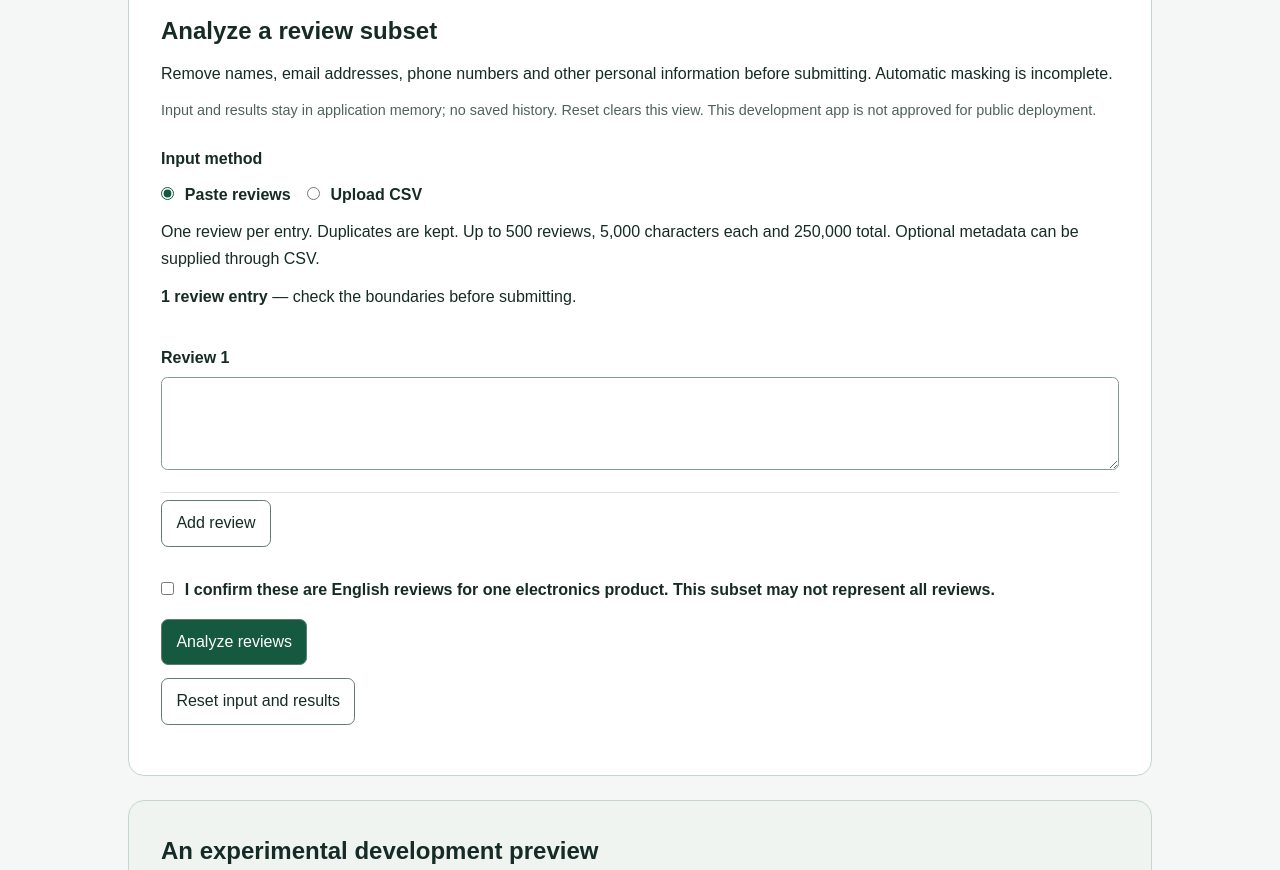
network failure retains input; retry succeeds with an experimental score
(page scrolled)
Type "This synthetic display is bright and clear." into the text box labelled "Review 1" at [640, 423], box [161, 377, 1119, 470]
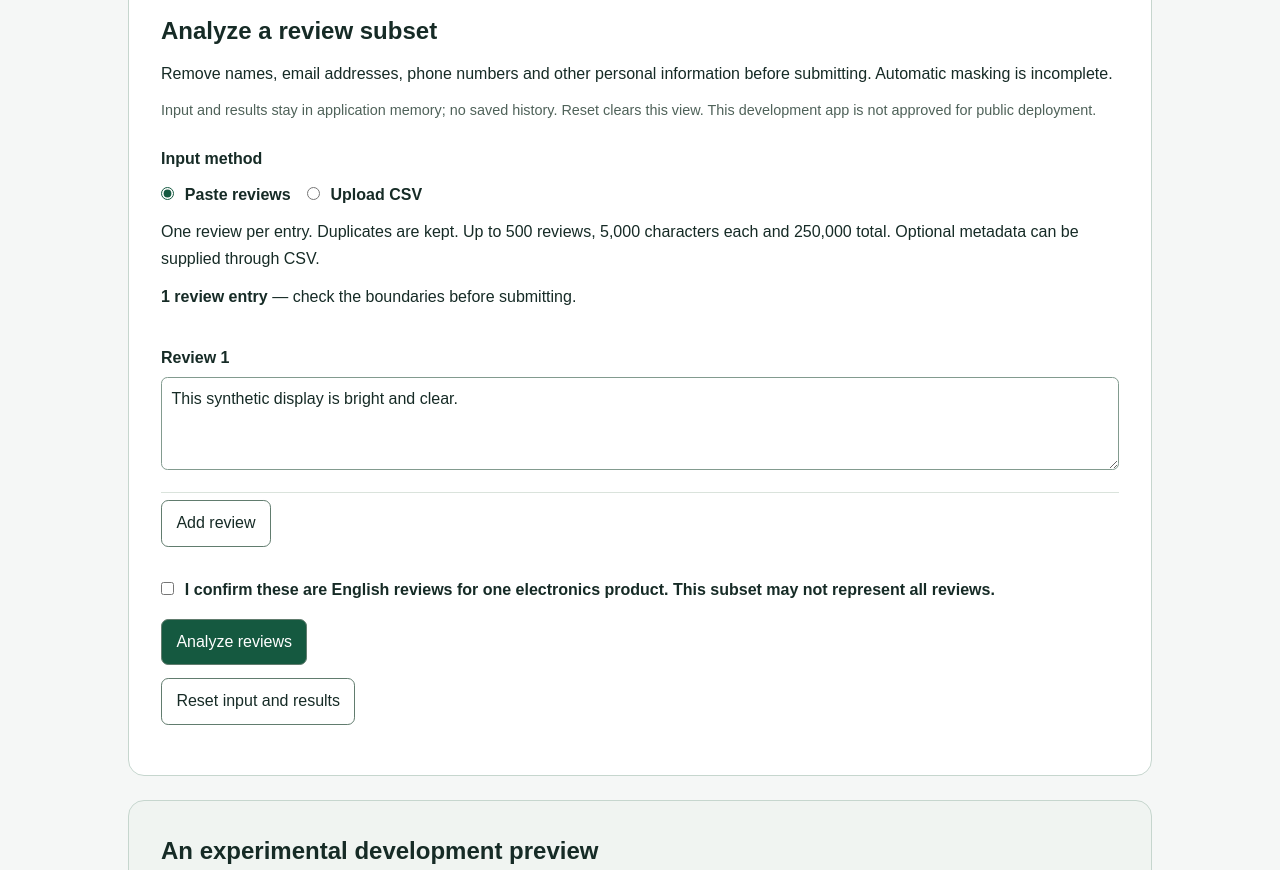
Click the checkbox at [168, 588], box [161, 582, 174, 595]
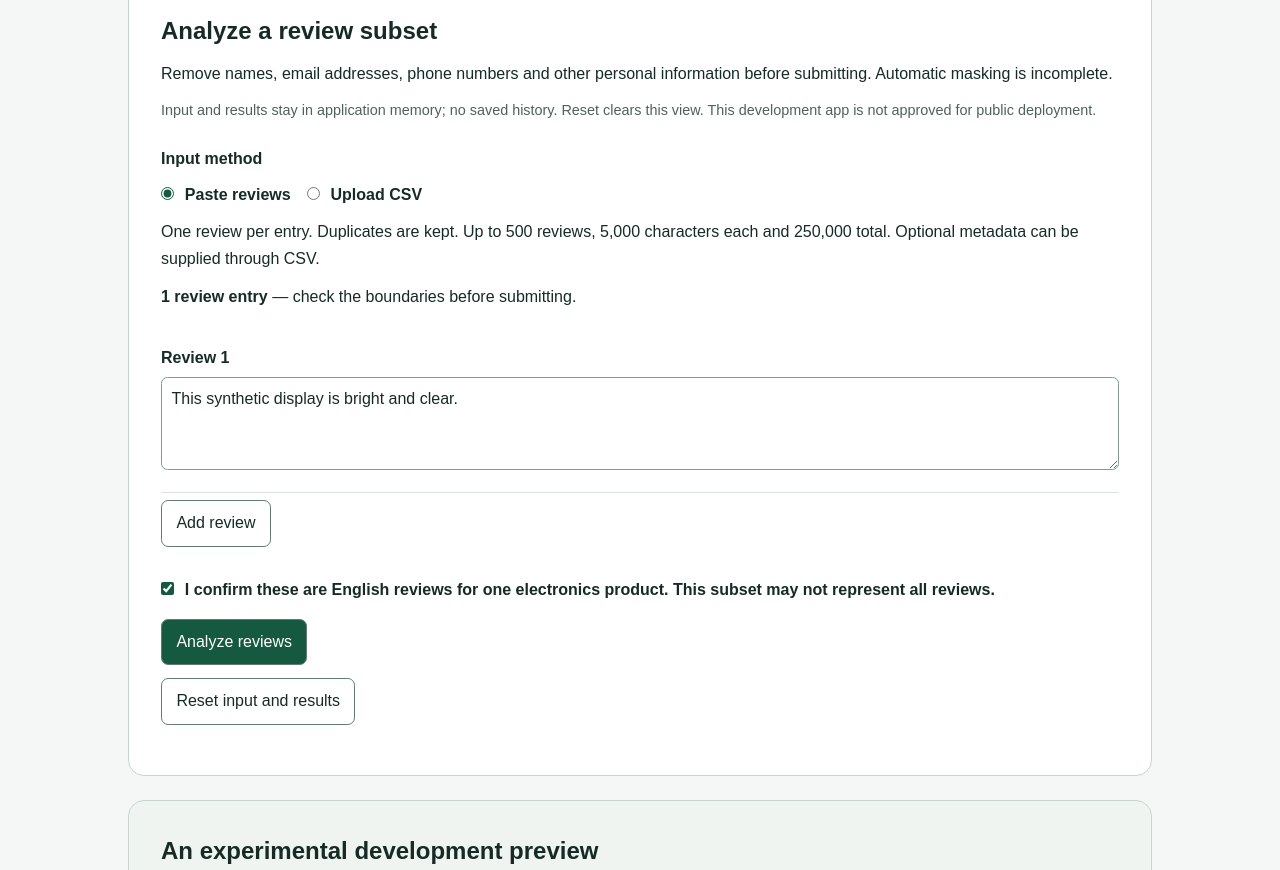
Click the button "Analyze reviews" at [234, 642], box [161, 618, 307, 665]
(page scrolled)
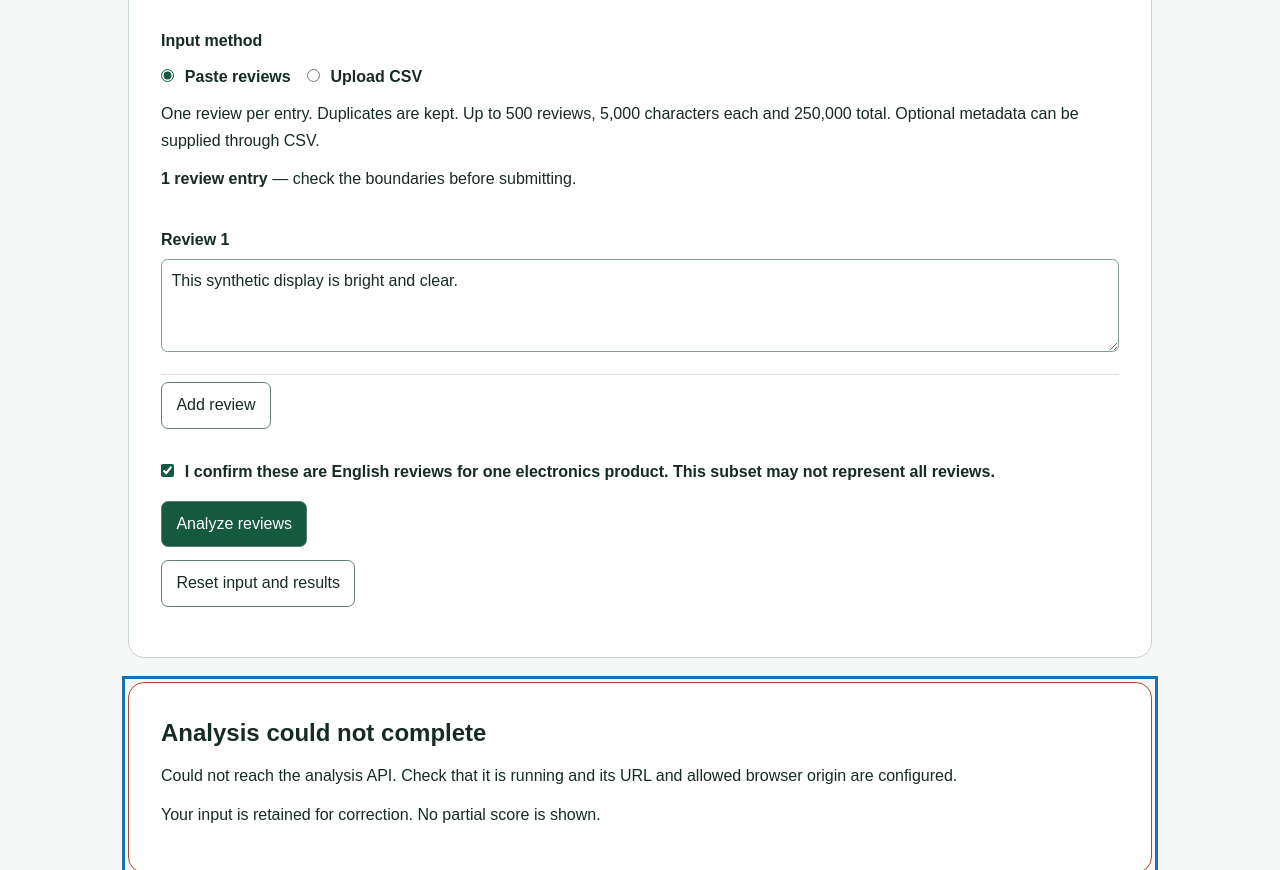
Expected: the message shows "Could not reach", [161, 767, 957, 784]
Click the button "Analyze reviews" at [234, 524], box [161, 500, 307, 547]
(page scrolled)
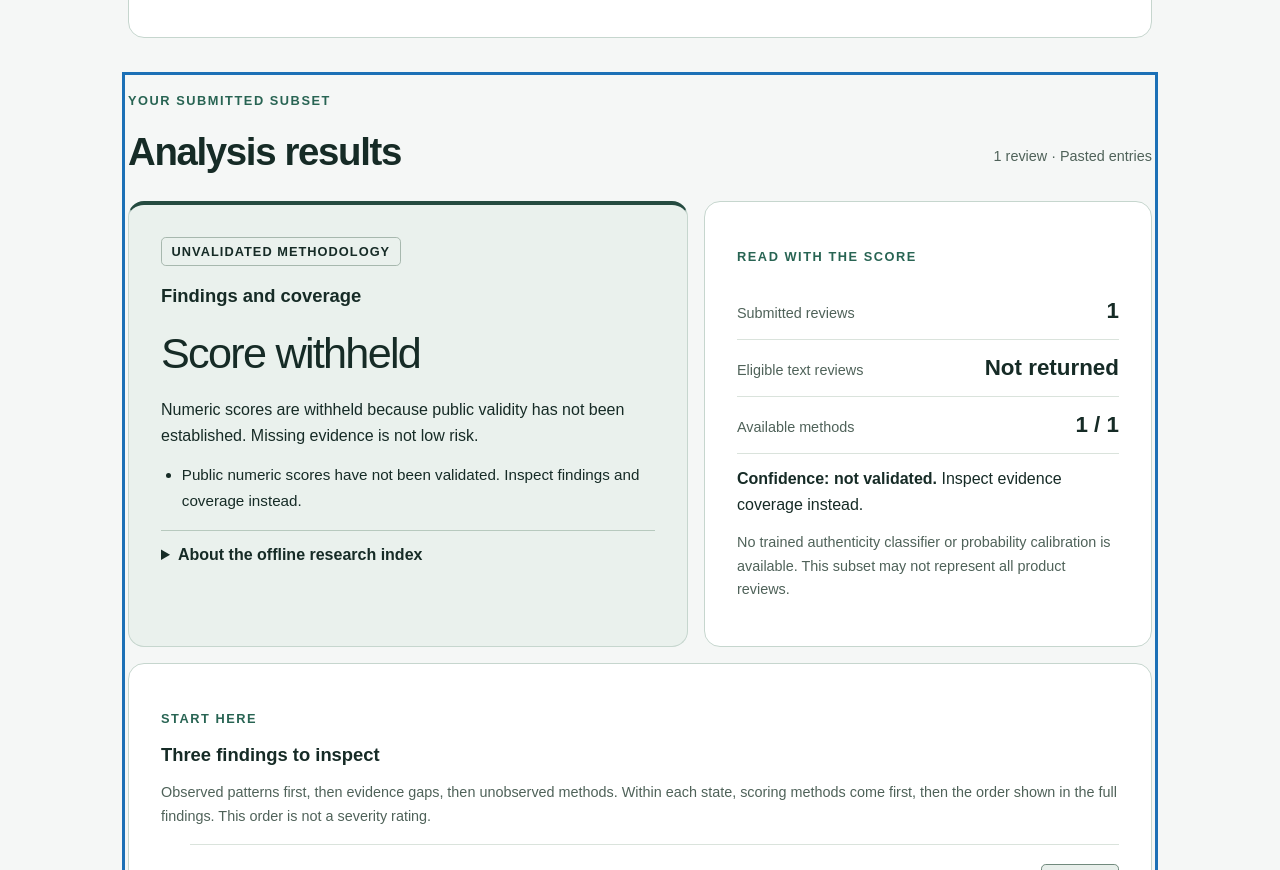
Expected: the text "Score withheld" is shown, [161, 329, 420, 377]
Expected: the text "Numeric scores are withheld" is shown, [161, 401, 624, 444]
